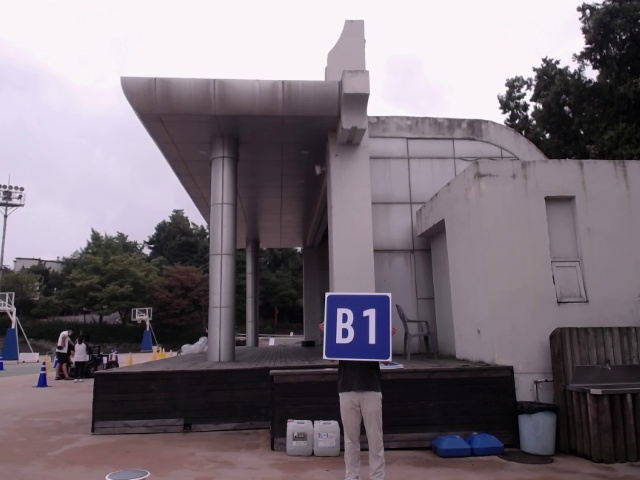delivery_b1: (324, 292, 391, 361)
